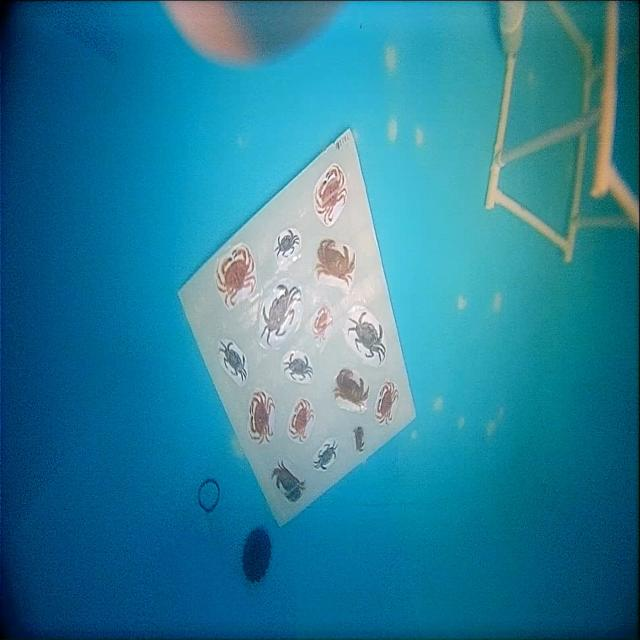GreenCrab: (260, 284, 301, 344), (347, 312, 385, 363), (219, 342, 246, 380), (284, 354, 313, 380), (276, 229, 300, 257)
